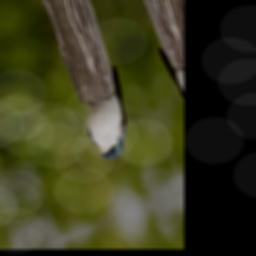Swallow: (68, 64, 146, 170)
